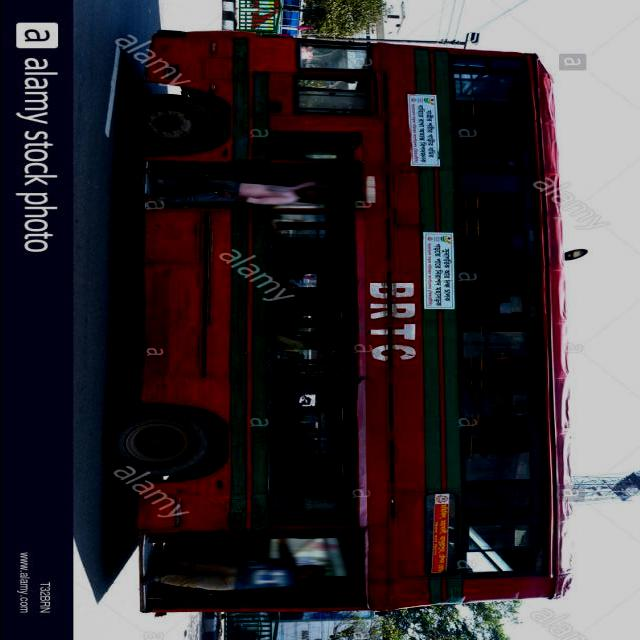bus: (101, 30, 573, 615)
